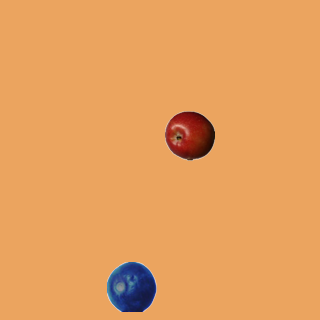Apple Braeburn: (164, 110, 214, 160)
Huckleberry: (106, 261, 156, 311)
